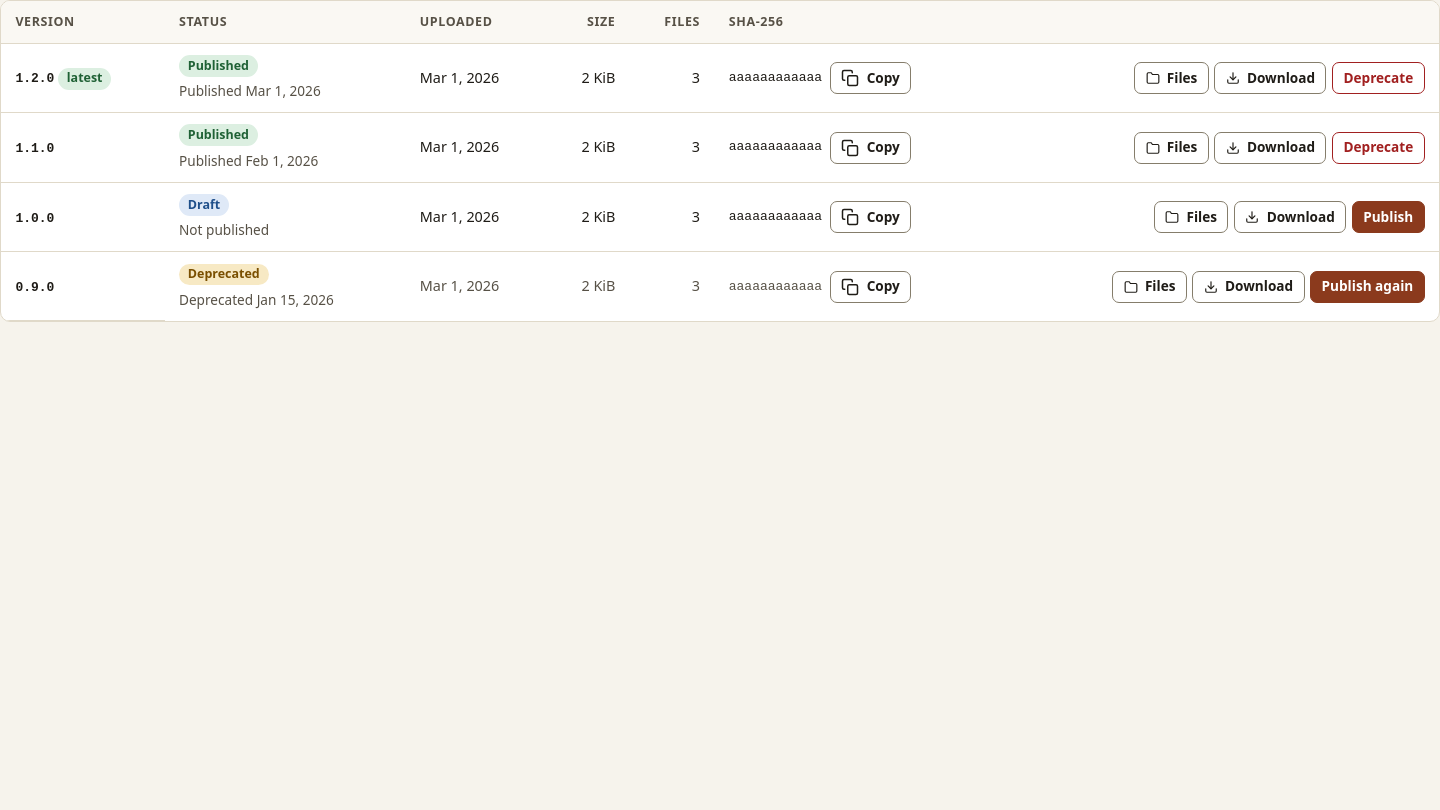
Test: VersionsTab: publishing › explains a failure to publish
What coordinates should you click on to do the following:
click the button named "Publish version 1.0.0"
I would click on:
 (1388, 217)
Its box is [1352,201,1425,233].
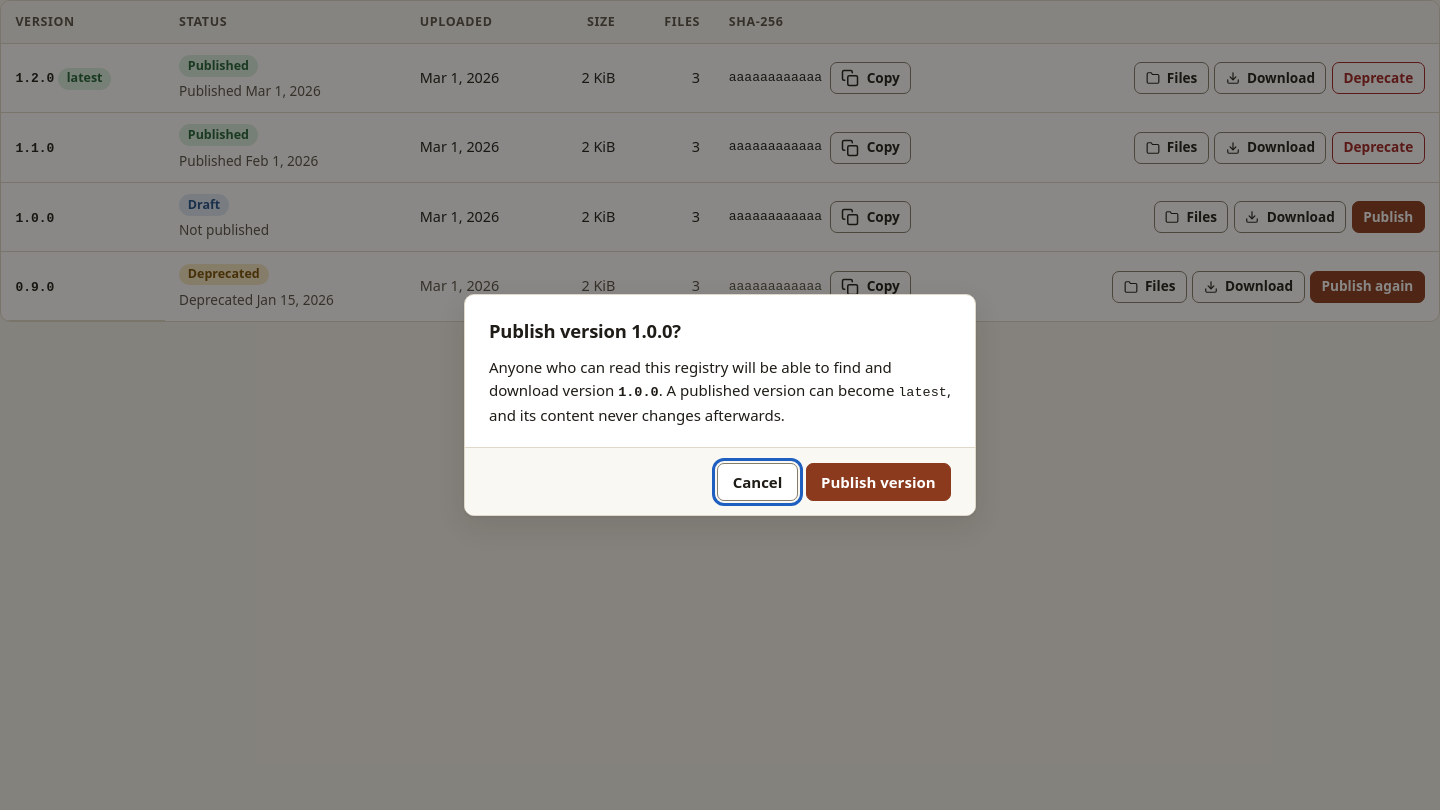
What coordinates should you click on to do the following:
click the button "Publish version"
I would click on:
 (878, 482)
Its box is [806,462,951,500].
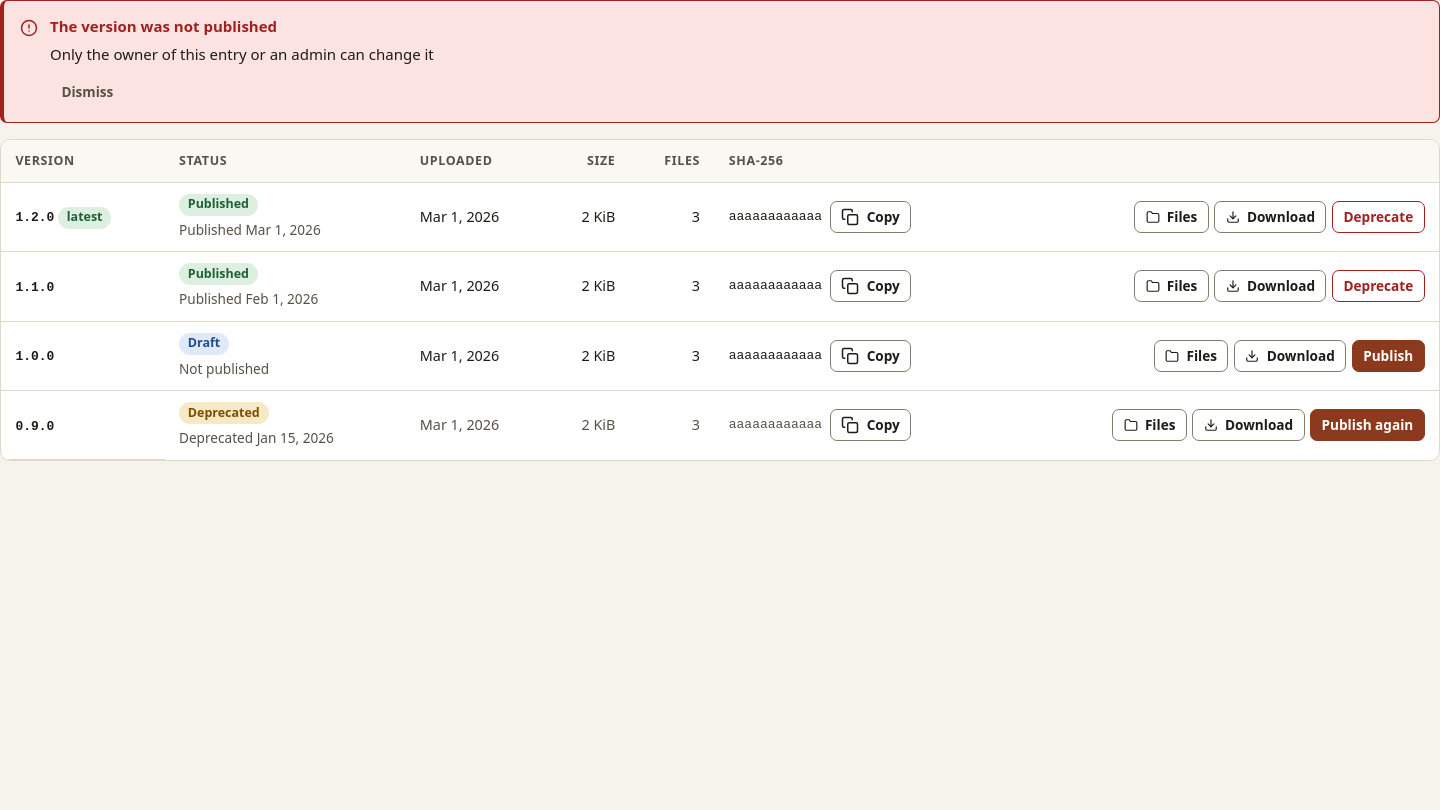
Expected: the message shows "The version was not published", [50,16,277,36]
Expected: the message shows "Only the owner of this entry or an admin can change it", [50,44,434,64]
Expected: the dialog is gone
